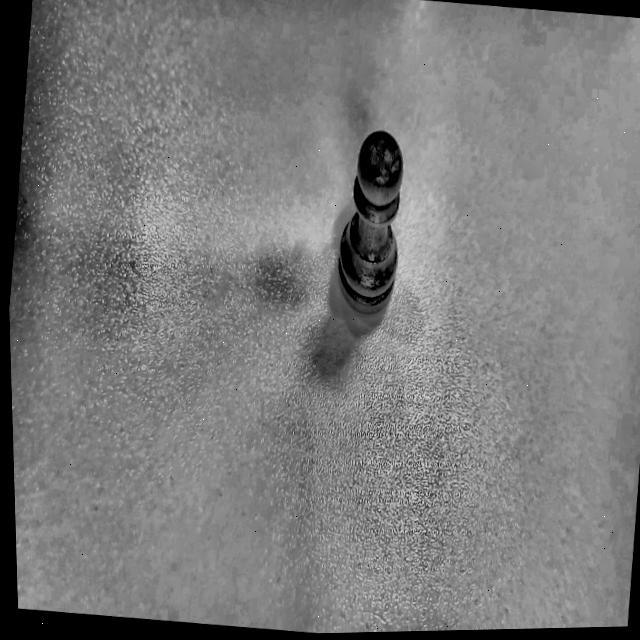black-pawn: (322, 121, 418, 328)
